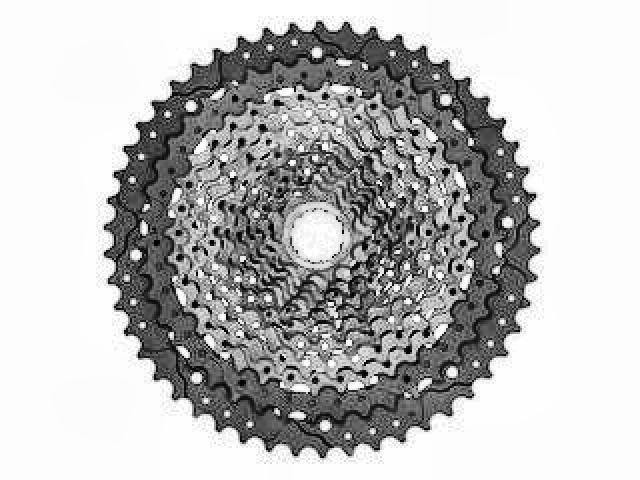cassette: (104, 20, 544, 462)
